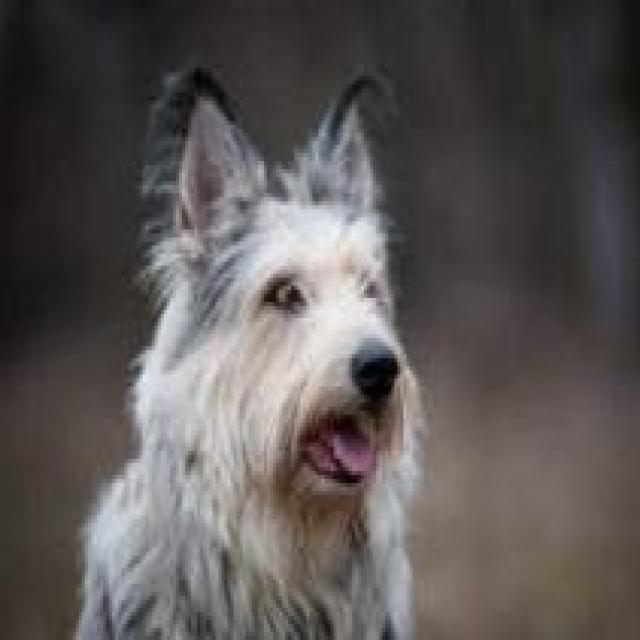Perro: (70, 48, 437, 640)
